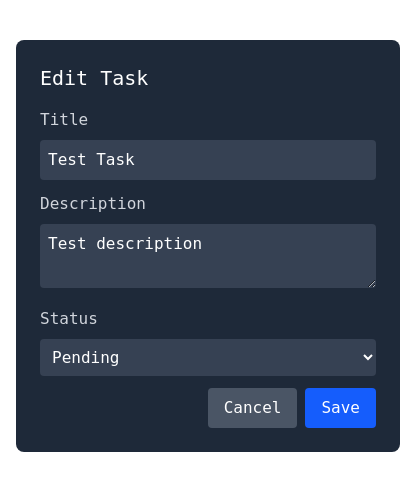
Test case: TaskEditForm › shows validation error when fields are empty and form is submitted
The image size is (417, 493).
Clear the field labelled "Title" at (208, 160), box [40,140,376,180]
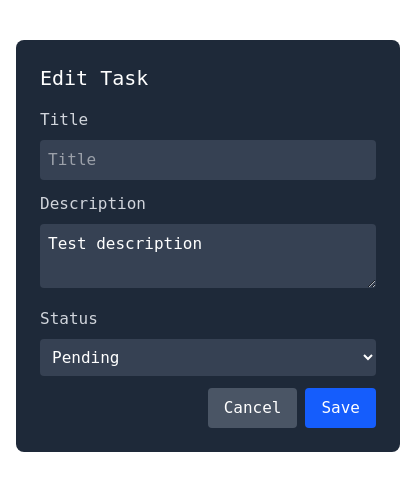
Clear the text box labelled "Description" at (208, 256), box [40,224,376,288]
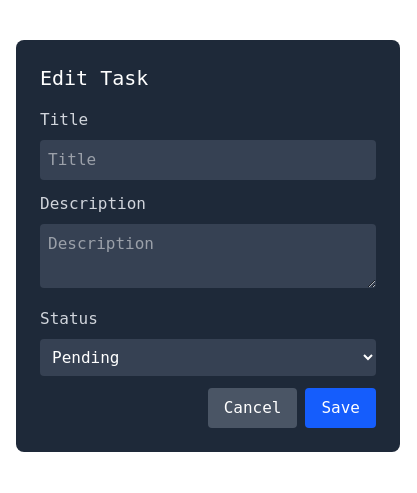
Click the button "Save".
click(341, 408)  # box [306,388,376,428]
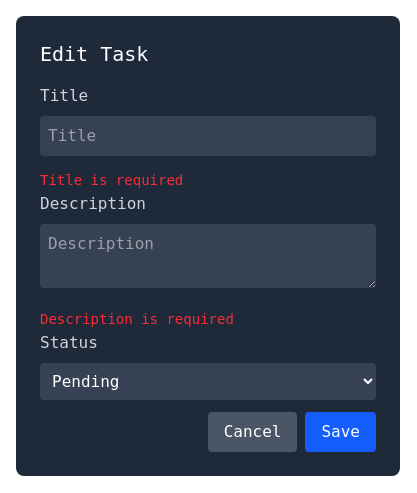
Result: the text "Title is required" is shown at [40,172,183,188]
Result: the text "Description is required" is shown at [40,311,234,327]
